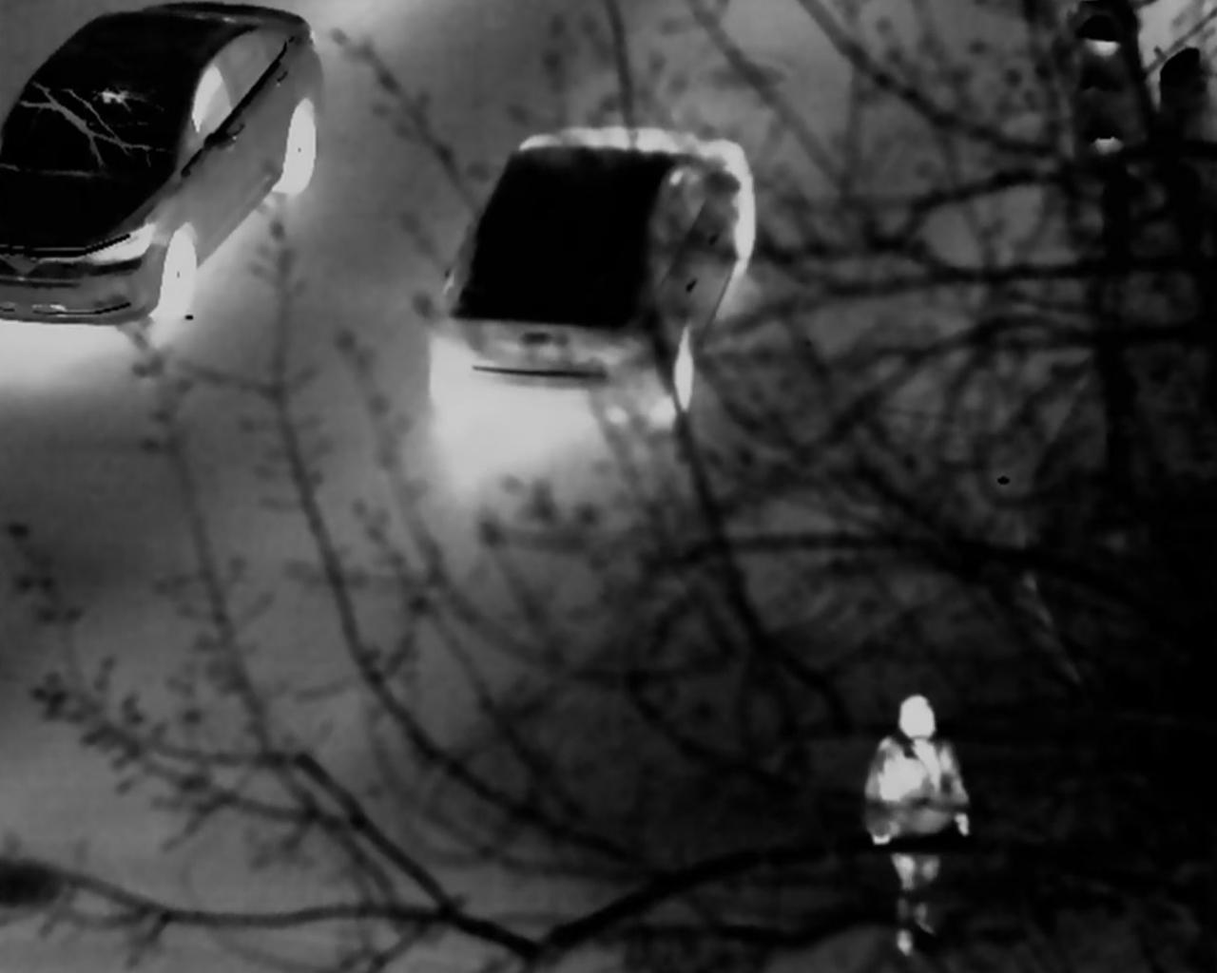person: (860, 696, 975, 948)
